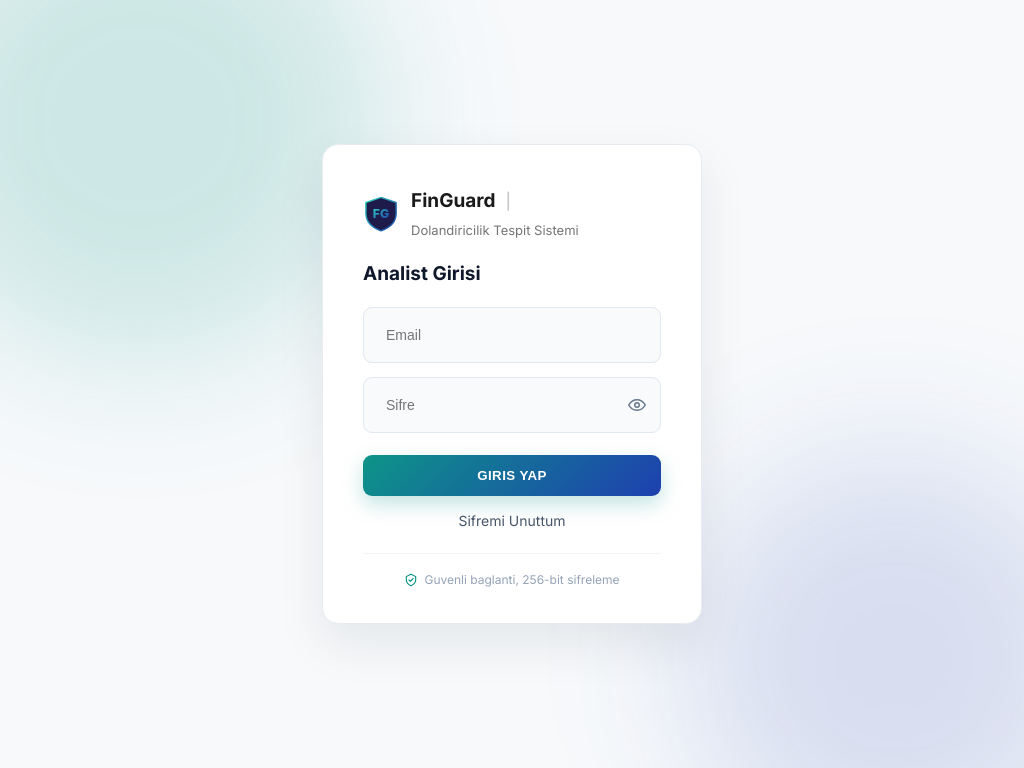
Login.vue › basarisiz giriste hata mesajini gostermeli, yonlendirmemeli
Type "test@example.com" into the field with placeholder "Email".
click(512, 335); type("test@example.com")  # box [378,319,646,351]
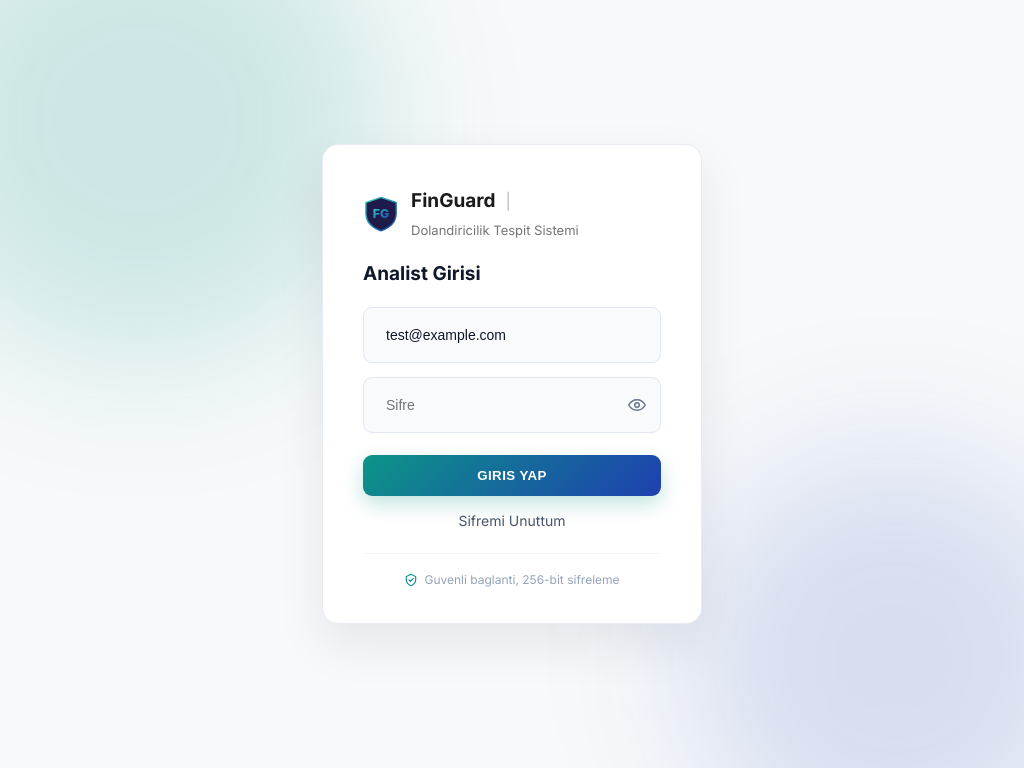
Type "yanlis-sifre" into the password field with placeholder "Sifre".
click(499, 405); type("yanlis-sifre")  # box [378,389,620,421]
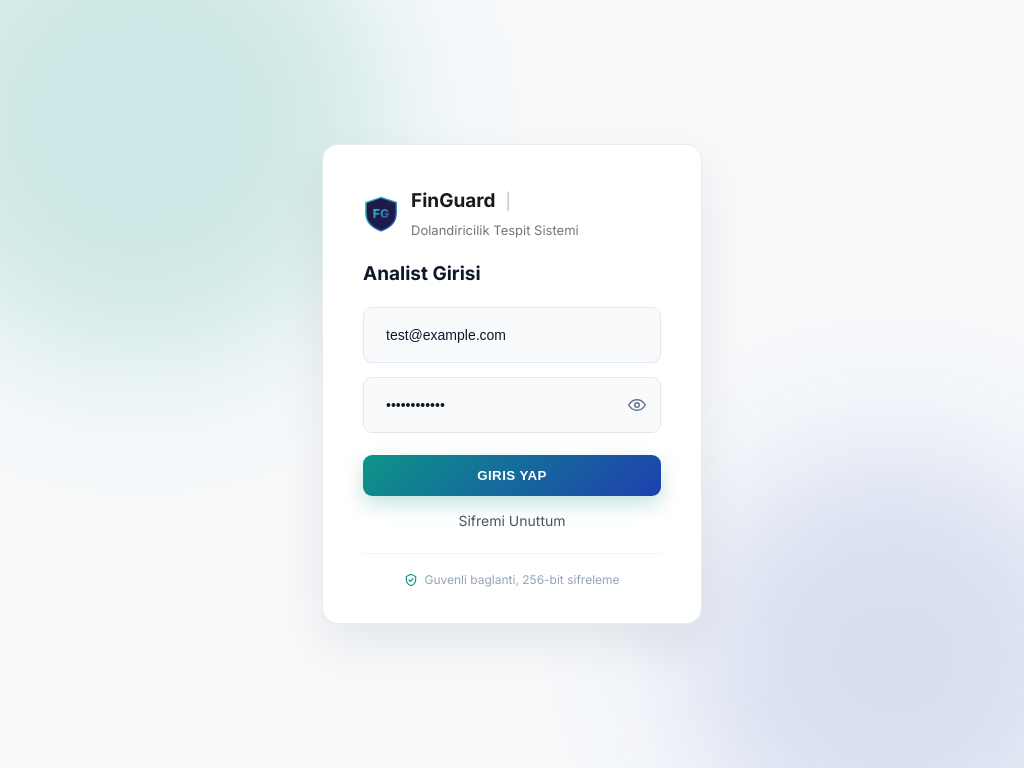
Submit the form, box [363,307,661,496]
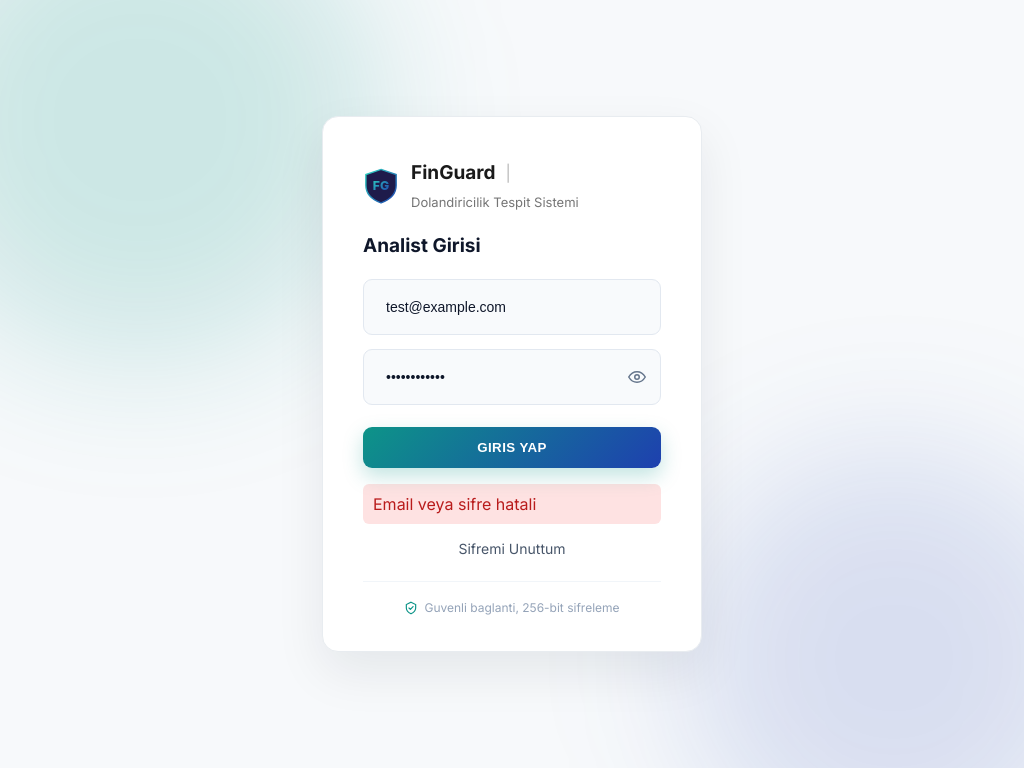
Result: the text "Email veya sifre hatali" is shown at [363,484,661,524]
